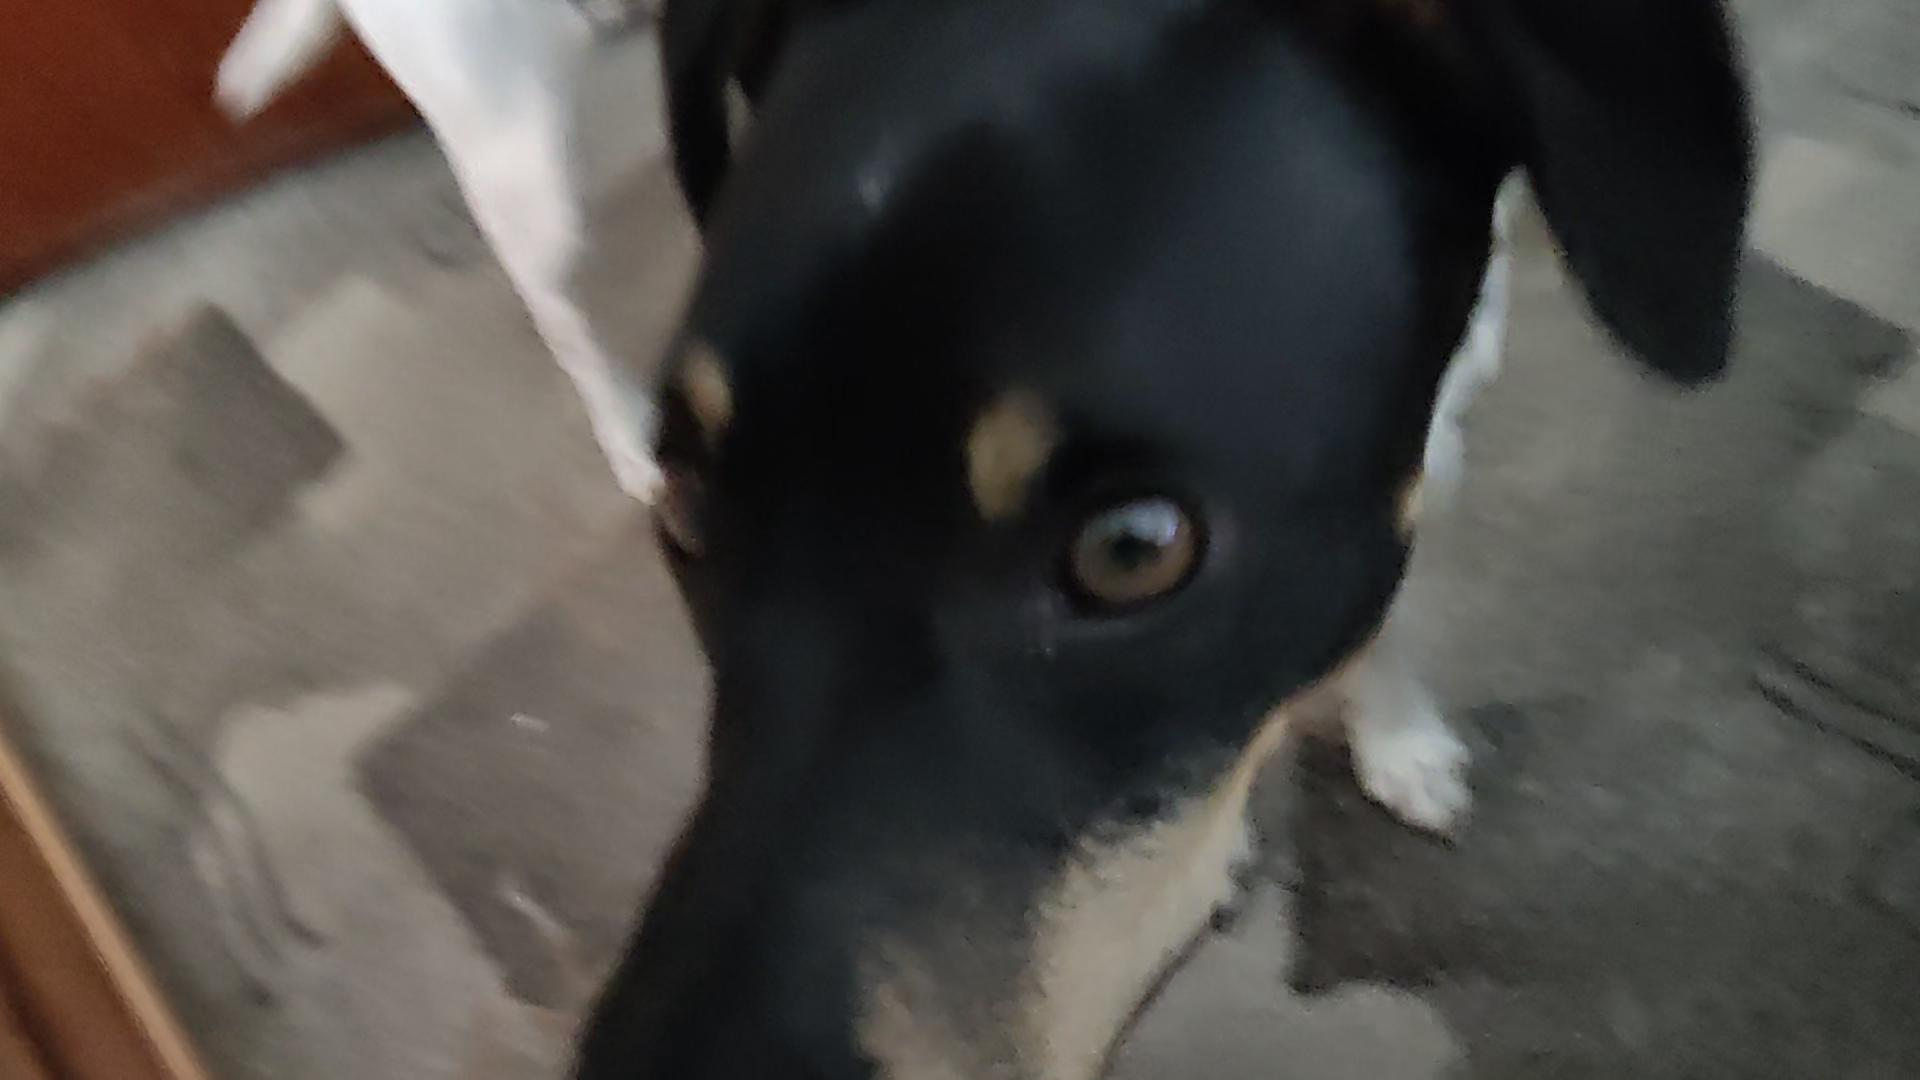Dog: (196, 0, 1772, 1079)
